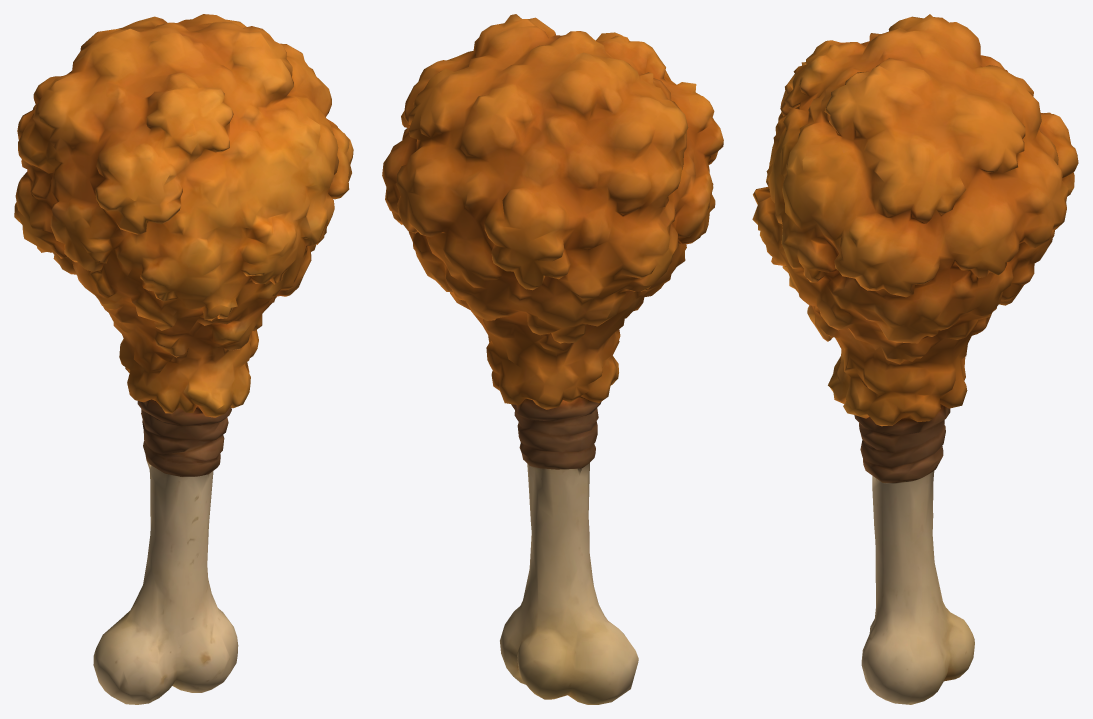
File: momo_hammer.glb
3 views of the same model, side by side, from view 1: azimuth 30°, elevation 25°; view 2: azimuth 150°, elevation 25°; view 3: azimuth 270°, elevation 25° (orthographic).
Visible parts, largest first — view 1: tripo_node_9c634242-4eaa-41c4-97ab-246655480fd5; view 2: tripo_node_9c634242-4eaa-41c4-97ab-246655480fd5; view 3: tripo_node_9c634242-4eaa-41c4-97ab-246655480fd5.
Boxes of the visible parts, <box> form: tripo_node_9c634242-4eaa-41c4-97ab-246655480fd5: <box>14,14,353,704</box>; tripo_node_9c634242-4eaa-41c4-97ab-246655480fd5: <box>382,14,723,704</box>; tripo_node_9c634242-4eaa-41c4-97ab-246655480fd5: <box>752,14,1078,704</box>.
Size of the model in its own units: 0.4671 by 0.9996 by 0.4485.
1 material, 1 textured.
